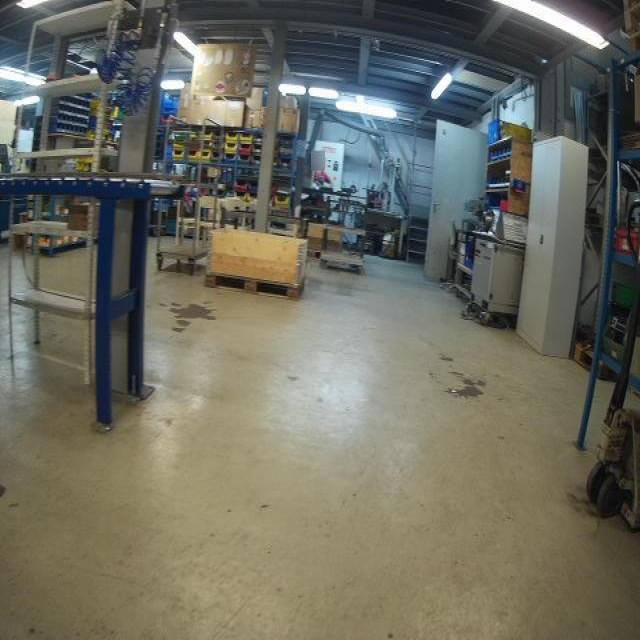pallet: (202, 268, 308, 301), (574, 340, 612, 382), (621, 2, 640, 53), (306, 247, 324, 262)
pallet_truck: (572, 195, 639, 539)
